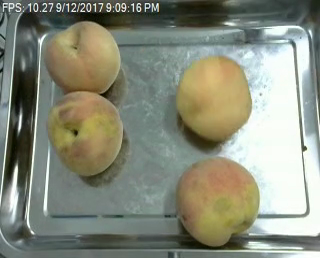Peach: (176, 156, 260, 246), (49, 90, 124, 176), (177, 56, 251, 143), (42, 20, 121, 95)
